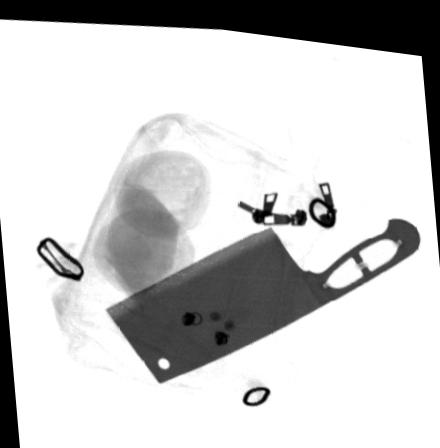Knife: (100, 205, 422, 380)
